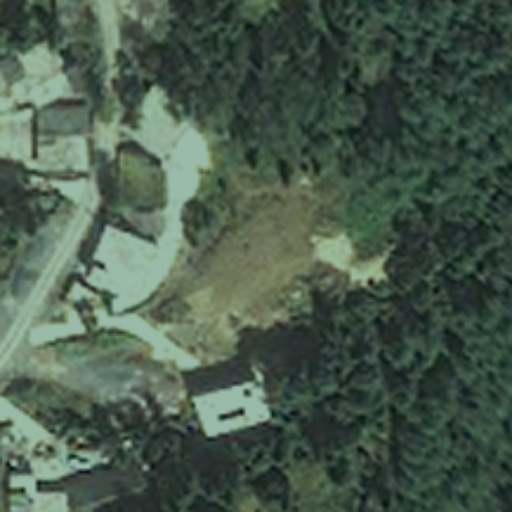landslide: (209, 180, 394, 333)
